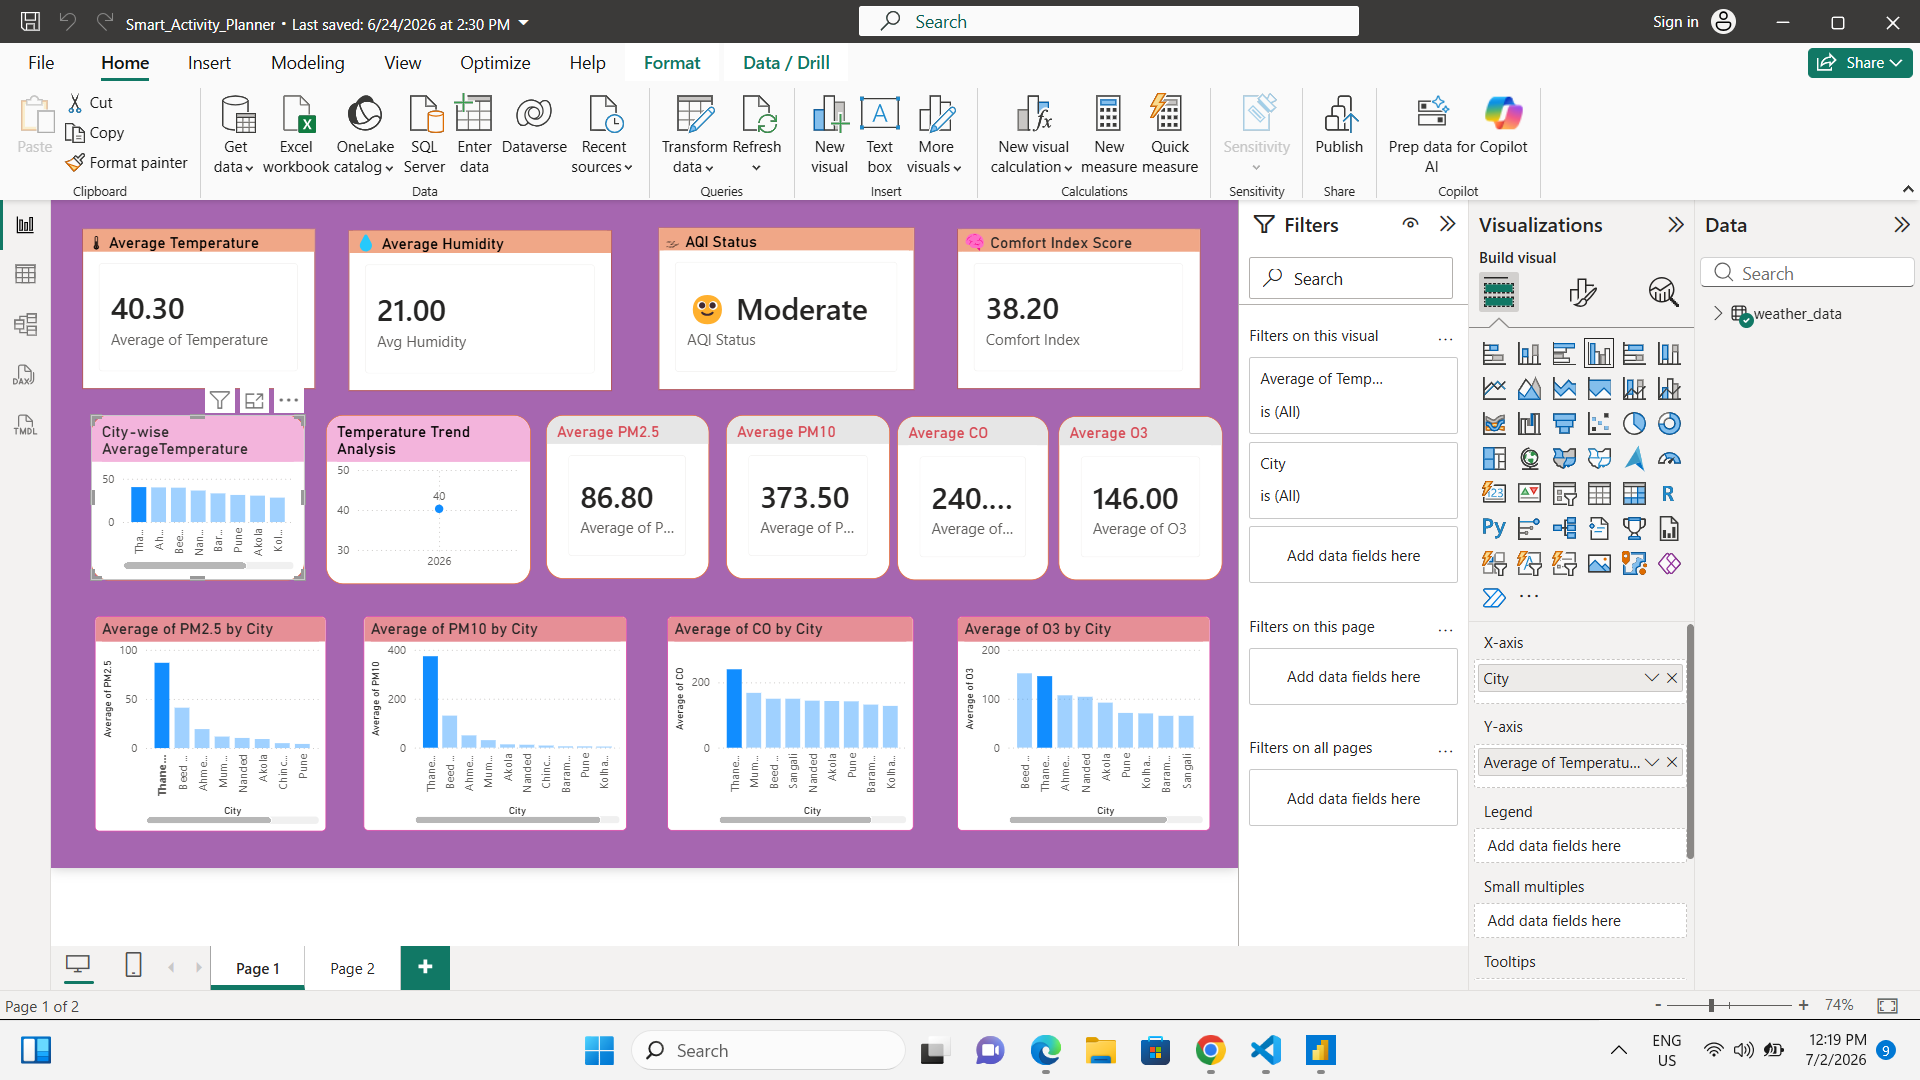

What the dashboard file says about the page in this screenshot:
{"tool":"powerbi","page":{"name":"Page 1","canvas":[1280,720],"ordinal":0},"visuals":[{"type":"lineChart","title":"Temperature Trend Analysis","fields":{"Category":["weather_data.Date.Variation.Date Hierarchy.Year","weather_data.Date.Variation.Date Hierarchy.Quarter","weather_data.Date.Variation.Date Hierarchy.Month","weather_data.Date.Variation.Date Hierarchy.Day"],"Y":["Sum(weather_data.Temperature)"]},"box":[296.4,231.9,220.9,182.5],"z":0},{"type":"clusteredColumnChart","title":"City-wise AverageTemperature","fields":{"Category":["weather_data.City"],"Y":["Avg(weather_data.Temperature)"]},"box":[42.5,231.9,230.5,178.4],"z":1000},{"type":"cardVisual","title":"Average O3","fields":{"Data":["Avg(weather_data.O3)"]},"box":[1086.8,233.3,177,177],"z":2000},{"type":"cardVisual","title":"Average PM10","fields":{"Data":["Avg(weather_data.PM10)"]},"box":[727.3,231.9,177,177],"z":3000},{"type":"cardVisual","title":"Average PM2.5","fields":{"Data":["Avg(weather_data.PM2.5)"]},"box":[533.8,231.9,175.6,177],"z":4000},{"type":"cardVisual","title":"Average CO","fields":{"Data":["Avg(weather_data.CO)"]},"box":[912.5,233.3,163.3,177],"z":5000},{"type":"clusteredColumnChart","fields":{"Category":["weather_data.City"],"Y":["Avg(weather_data.PM2.5)"]},"box":[46.7,448.7,249.7,231.9],"z":6000},{"type":"clusteredColumnChart","fields":{"Category":["weather_data.City"],"Y":["Avg(weather_data.PM10)"]},"box":[337.1,448.6,284.3,231.4],"z":7000},{"type":"clusteredColumnChart","fields":{"Category":["weather_data.City"],"Y":["Avg(weather_data.O3)"]},"box":[977.1,448.6,272.9,231.4],"z":8000},{"type":"clusteredColumnChart","fields":{"Category":["weather_data.City"],"Y":["Avg(weather_data.CO)"]},"box":[664.3,448.6,265.7,231.4],"z":9000},{"type":"cardVisual","title":"🌫 AQI Status","fields":{"Data":["weather_data.AQI Status"]},"box":[654.5,30.1,276,174.9],"z":10000},{"type":"cardVisual","title":"💧 Average Humidity","fields":{"Data":["weather_data.Avg Humidity"]},"box":[321.1,32.8,284.2,173.5],"z":10001},{"type":"cardVisual","title":"🌡 Average Temperature","fields":{"Data":["Avg(weather_data.Temperature)"]},"box":[34.3,31.6,251.1,172.9],"z":10002},{"type":"cardVisual","title":"🧠 Comfort Index Score","fields":{"Data":["weather_data.Comfort Index"]},"box":[977,31.6,262.1,172.9],"z":10003}]}

Visuals, with their boxes on the page's 1280x720 design canvas (x1, y1, x2, y2). These are canvas units, not pixel positions in the 1920x1080 screenshot, which may show the page scaled, cropped or inside an application window:
"Temperature Trend Analysis" lineChart: [x1=296, y1=232, x2=517, y2=414]
"City-wise AverageTemperature" clusteredColumnChart: [x1=42, y1=232, x2=273, y2=410]
"Average O3" cardVisual: [x1=1087, y1=233, x2=1264, y2=410]
"Average PM10" cardVisual: [x1=727, y1=232, x2=904, y2=409]
"Average PM2.5" cardVisual: [x1=534, y1=232, x2=709, y2=409]
"Average CO" cardVisual: [x1=912, y1=233, x2=1076, y2=410]
clusteredColumnChart - weather_data.City x Avg(weather_data.PM2.5): [x1=47, y1=449, x2=296, y2=681]
clusteredColumnChart - weather_data.City x Avg(weather_data.PM10): [x1=337, y1=449, x2=621, y2=680]
clusteredColumnChart - weather_data.City x Avg(weather_data.O3): [x1=977, y1=449, x2=1250, y2=680]
clusteredColumnChart - weather_data.City x Avg(weather_data.CO): [x1=664, y1=449, x2=930, y2=680]
"🌫 AQI Status" cardVisual: [x1=654, y1=30, x2=930, y2=205]
"💧 Average Humidity" cardVisual: [x1=321, y1=33, x2=605, y2=206]
"🌡 Average Temperature" cardVisual: [x1=34, y1=32, x2=285, y2=204]
"🧠 Comfort Index Score" cardVisual: [x1=977, y1=32, x2=1239, y2=204]
